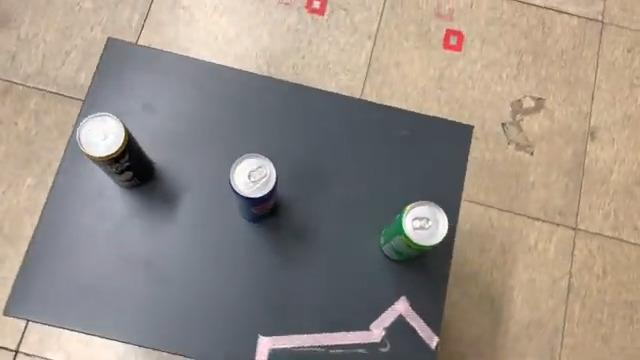OranSoda: (71, 109, 159, 193)
Pepsi: (224, 150, 282, 226)
Sprite: (375, 196, 453, 266)
